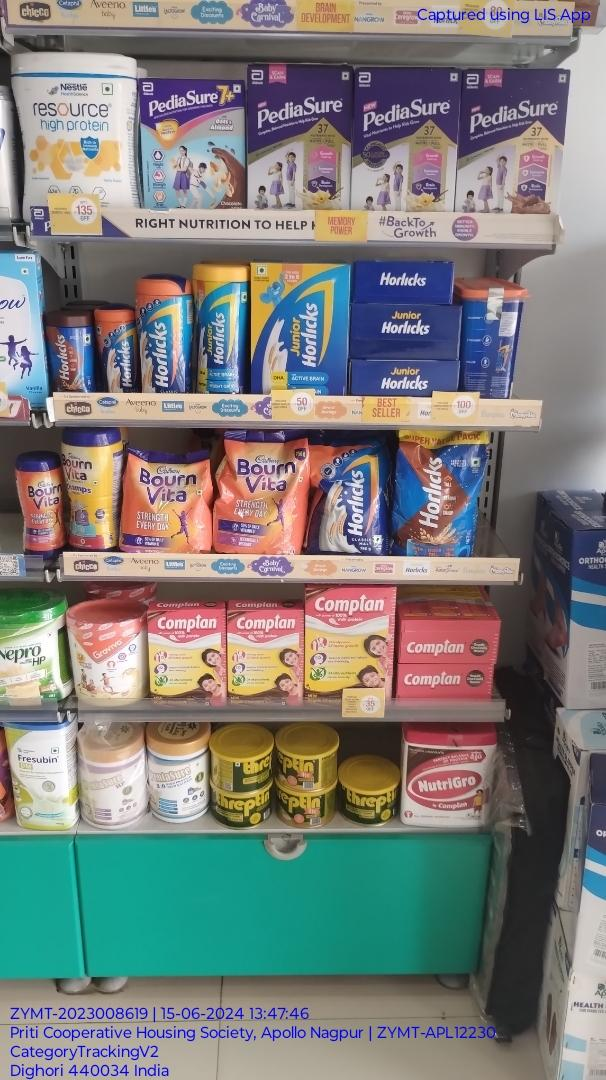BOURN_VITA_200_G_JAR: (19, 451, 58, 558)
BOURN_VITA_500_G_POUCH: (125, 446, 209, 552)
BOURN_VITA_750_G_POUCH: (215, 428, 305, 553)
BOURN_VITA_CHAMPS_500_G_JAR: (60, 427, 114, 549)
COMPLAN_CHOCOLATE_500_GMS_PACK: (306, 588, 393, 697), (227, 611, 303, 710), (147, 610, 225, 705)
HORLICKS_JUNIOR_VANILLA_500_GM_JAR: (194, 263, 247, 395)
HORLICK_CHOCOLATE_200_G_JAR: (40, 312, 88, 392)
HORLICK_CLASSIC_MALT_200_G_JAR: (95, 303, 136, 392)
HORLICK_CLASSIC_MALT_500_G_JAR: (140, 272, 192, 391)
HORLICK_CLASSIC_MALT_500_G_PACK: (254, 261, 347, 395)
HORLICK_CLASSIC_MALT_750_G_POUCH: (310, 432, 390, 554)
PEDIASURE_7_PLUS_CHOCOLATE_400_G_PACK: (140, 78, 245, 208)
PEDIASURE_CHOCOLATE_500_G_PACK: (459, 66, 566, 213)
PEDIASURE_VANILLA_500_G_PACK: (248, 63, 350, 210), (355, 68, 452, 209)
